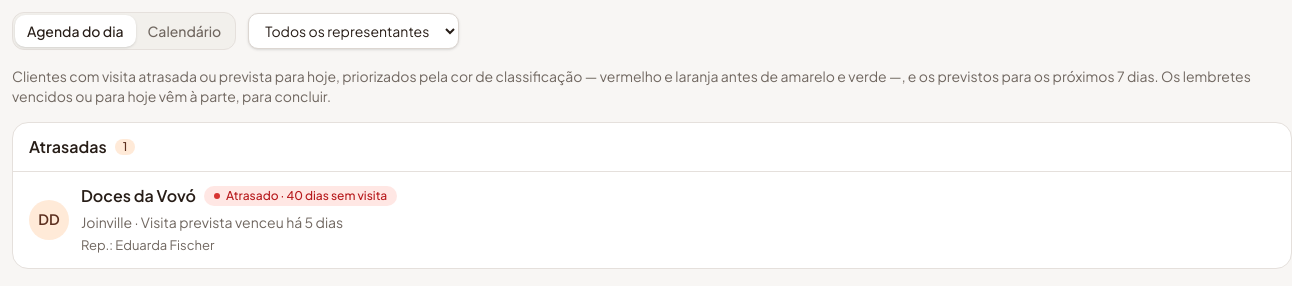
AgendaPage (celular) › gestor que escolhe um representante busca a agenda dele e deixa de ver a linha "Rep.:"
Expected: the text "Rep.: Eduarda Fischer" is shown, [81, 237, 214, 253]
Select "Eduarda Fischer" in the dropdown named "Filtrar por representante" at (354, 31), box [248, 13, 459, 49]
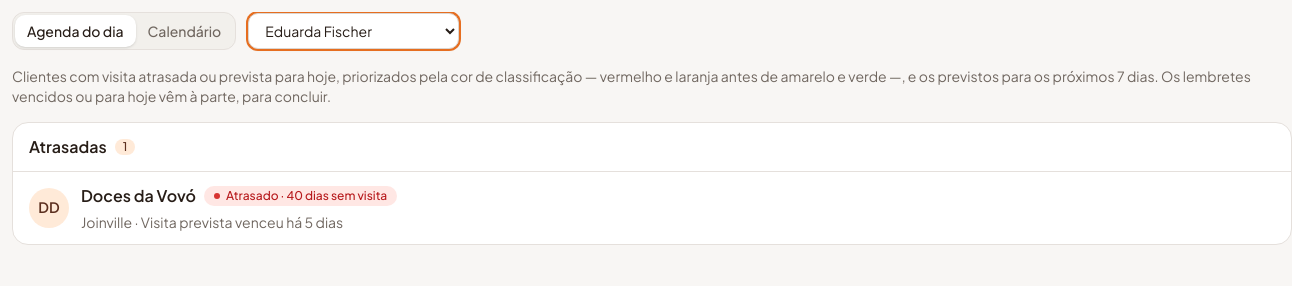
Expected: the element named "Atrasadas · 1" shows "Doces da Vovó", [23, 178, 1281, 238]
Expected: the link "Rep.:" is gone
